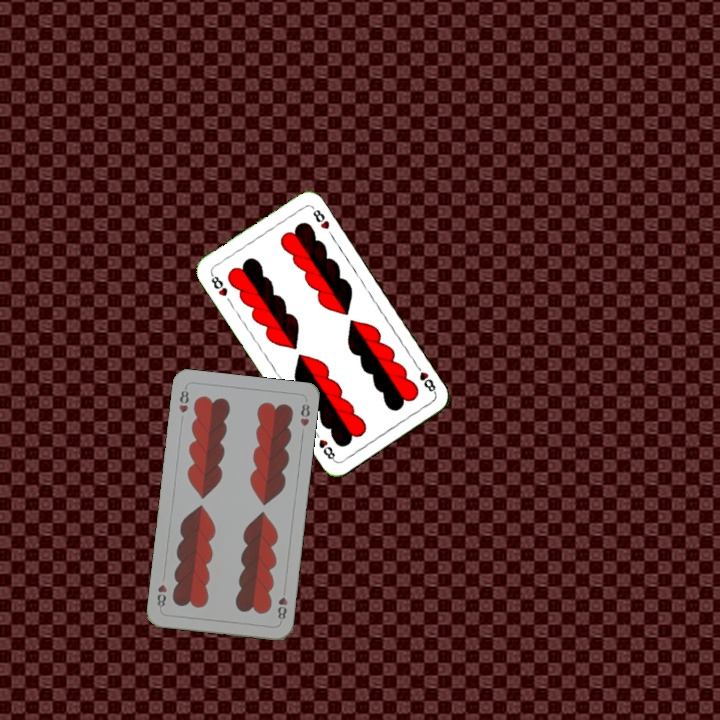H8: (411, 360, 439, 396), (206, 269, 230, 299), (274, 584, 290, 622), (175, 383, 191, 415)
